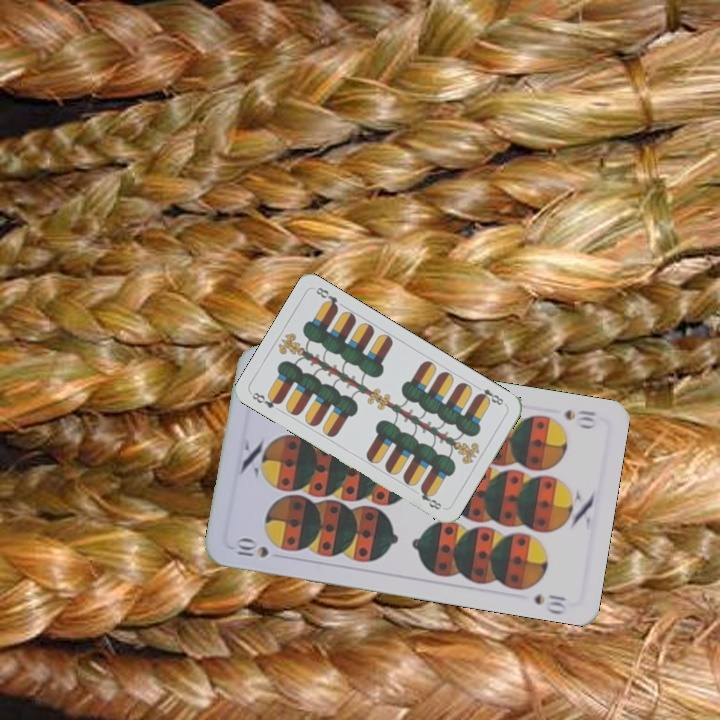E8: (472, 382, 506, 408), (248, 388, 284, 411)
S10: (231, 534, 271, 560), (560, 406, 598, 431)
